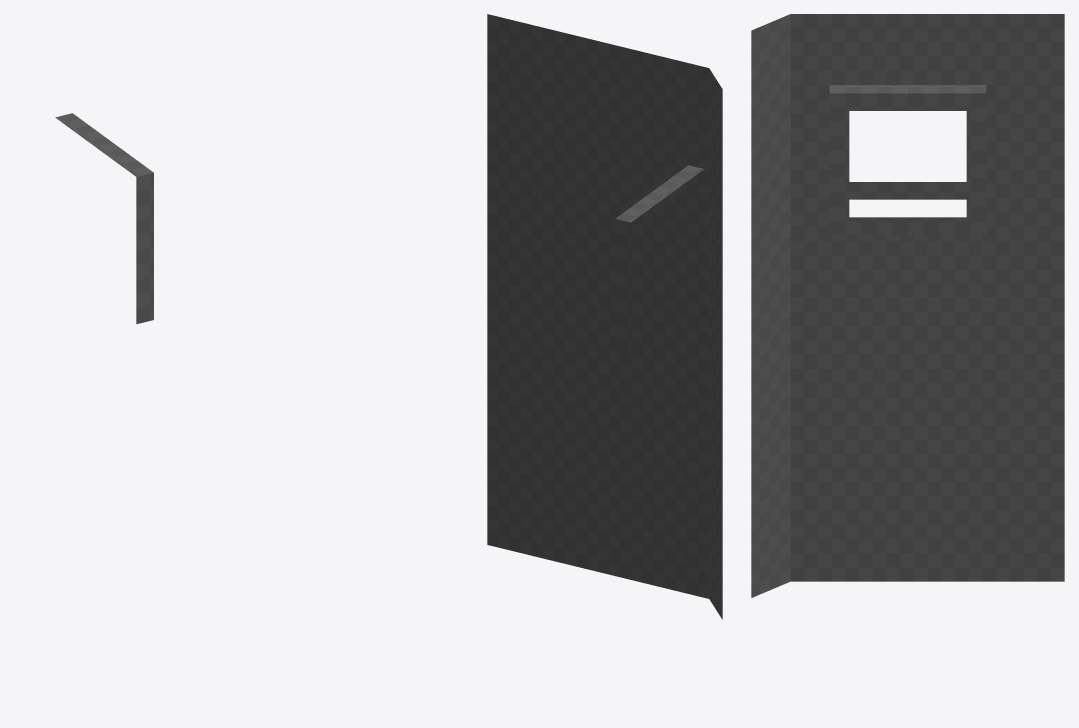
3 renders of one model, left to right at view 1: azimuth 30°, elevation 25°; view 2: azimuth 150°, elevation 25°; view 3: azimuth 270°, elevation 25°, orthographic. The views are drawn at different scales.
Parts seen in each view (by area): view 1: CubeInBackRightV1; view 2: CubeInBackRightV1; view 3: CubeInBackRightV1.
Part boxes in pixels (bbox=[...]): CubeInBackRightV1: bbox=[55, 113, 153, 324]; CubeInBackRightV1: bbox=[487, 14, 722, 619]; CubeInBackRightV1: bbox=[751, 14, 1064, 597].
Size of the model in its own units: 2 by 4 by 2.
Materials: 1 (1 with a texture image).
